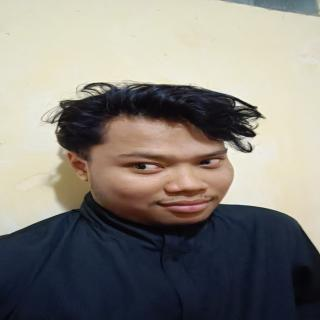Takut: (74, 104, 240, 232)
